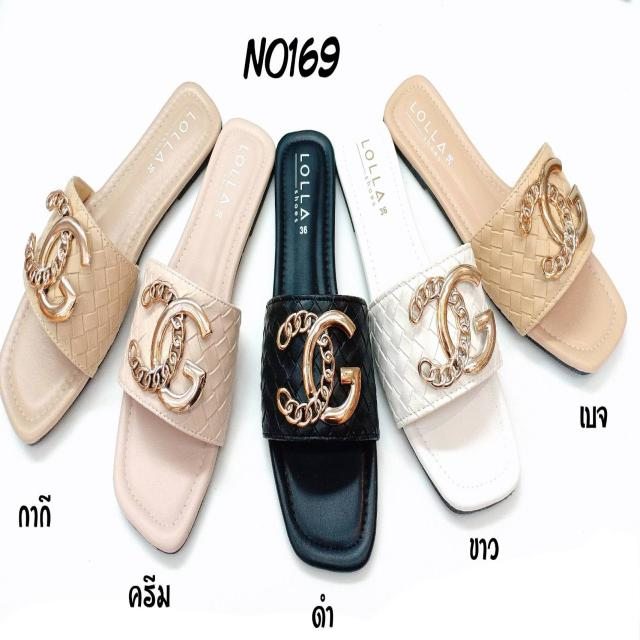bej: (382, 71, 627, 379)
black: (267, 128, 374, 570)
cream: (120, 125, 274, 542)
kakee: (2, 82, 222, 450)
white: (337, 116, 521, 514)
